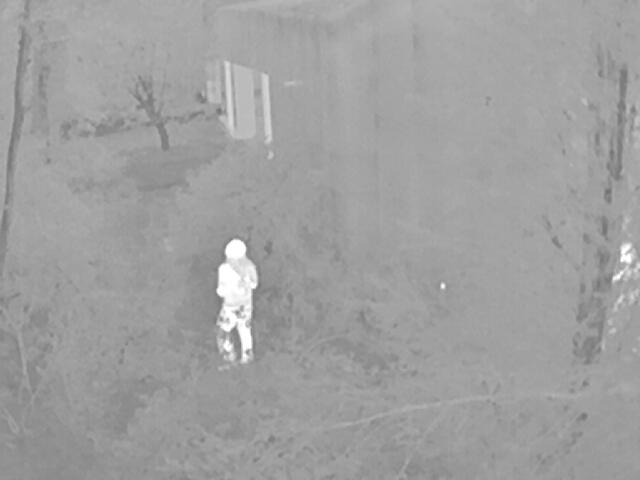person: (214, 238, 257, 370)
